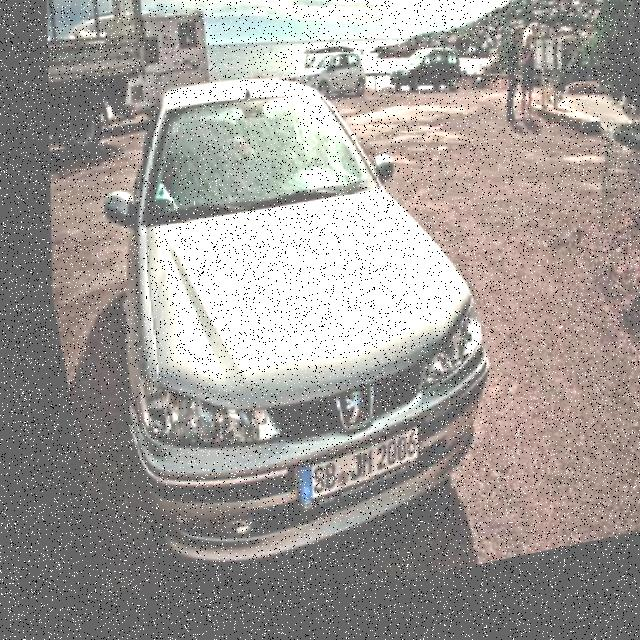license_plate: (269, 422, 410, 532), (386, 90, 393, 98)
